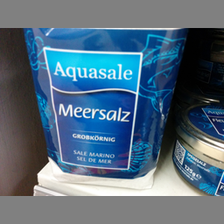spices: (23, 29, 186, 179)
